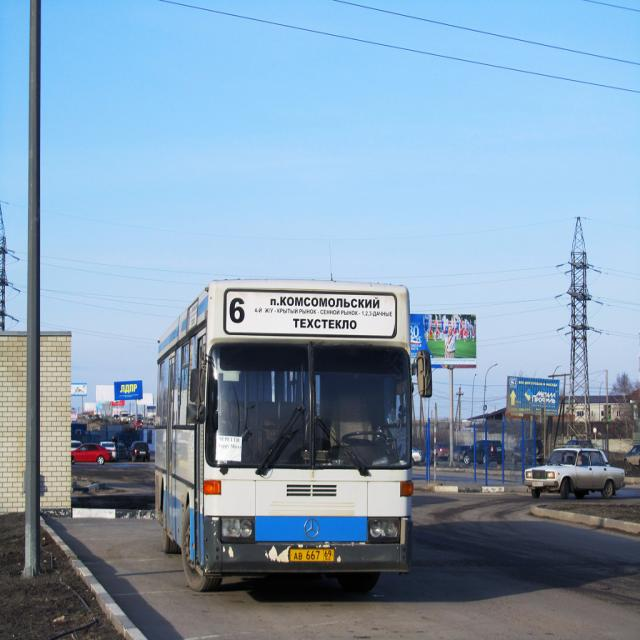number-of-bus: (227, 296, 250, 329)
